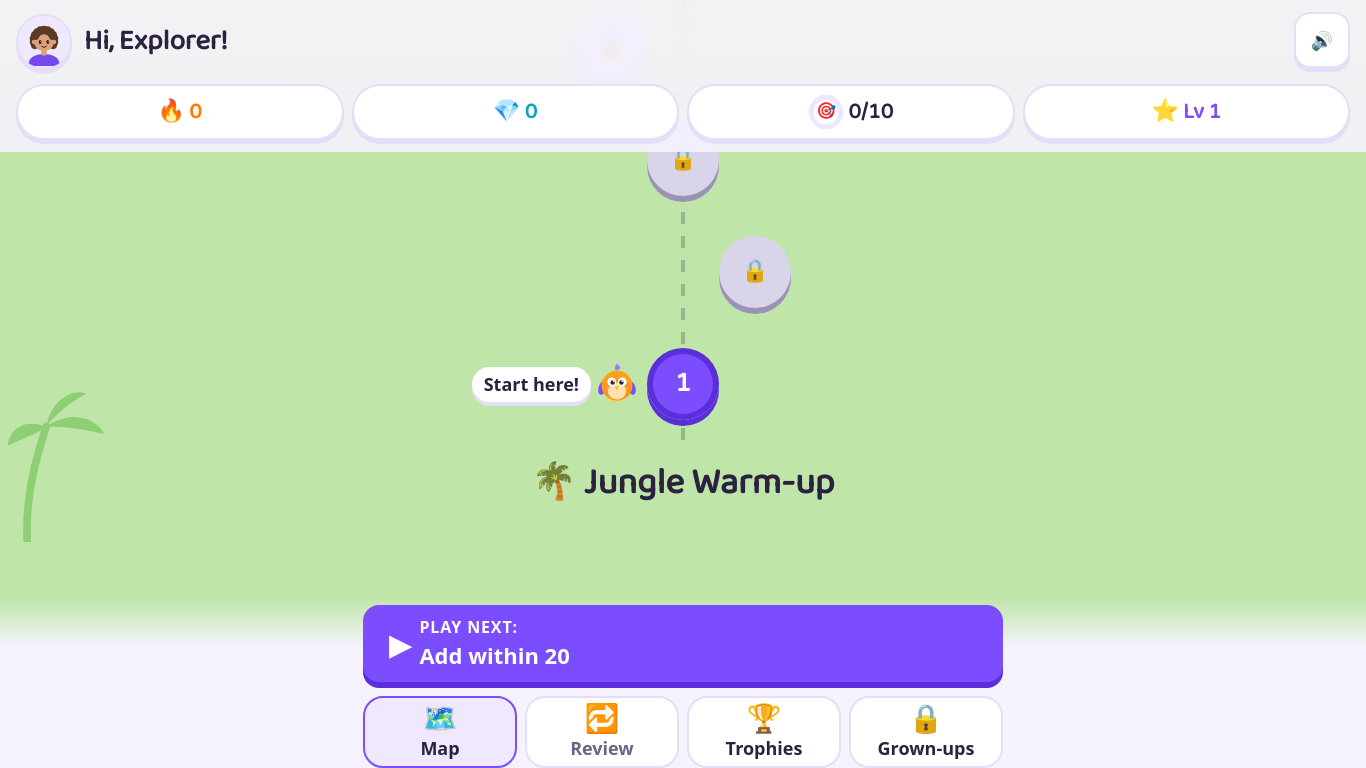
Test case: mission sheet + tap-to-hear (AC6, AC7) › a locked node says which mission comes first and has no Play
(page scrolled)
Click the button with test id "node-sub.within20" at (755, 272), box [719,236,791,308]
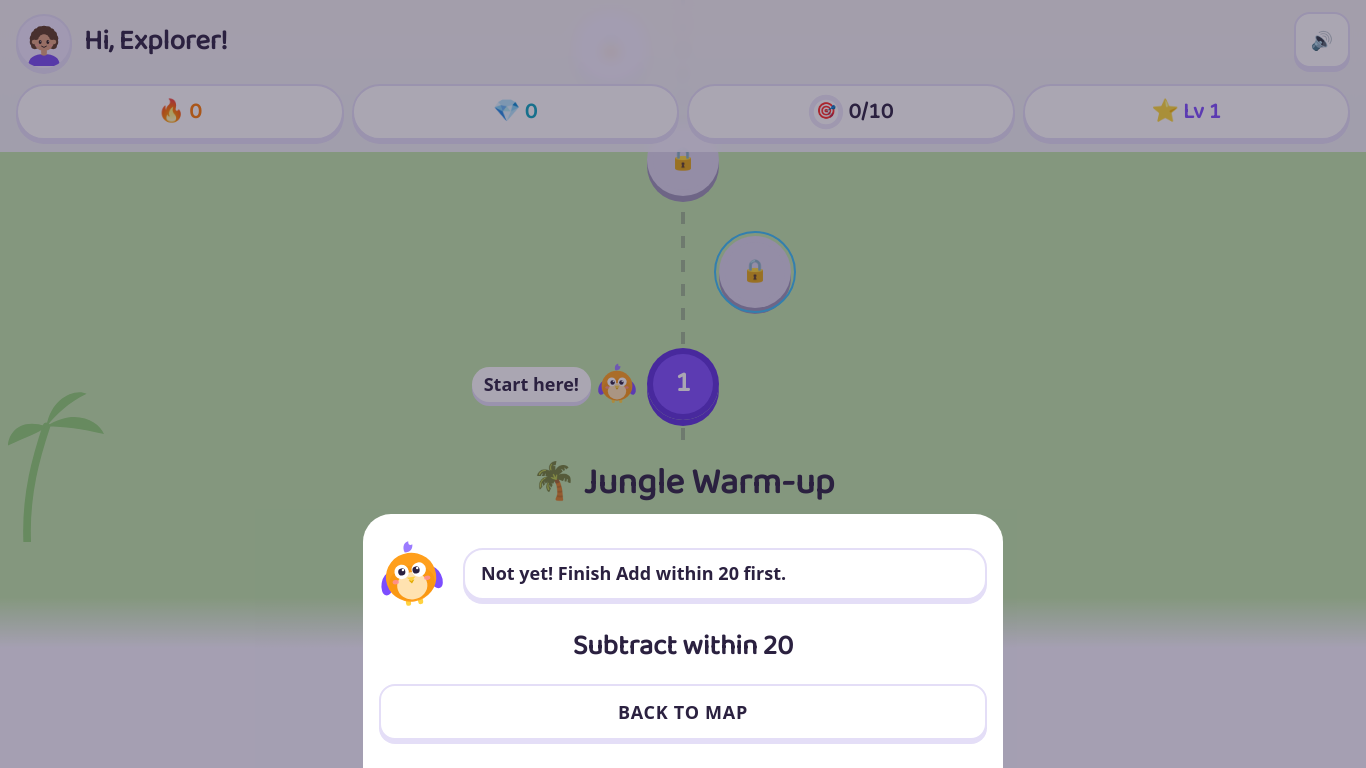
Expected: the dialog "Subtract within 20" shows "Not yet! Finish Add within 20 first.", [481,561,786,585]
Click the button "Back to map" at (683, 712), box [379,684,987,740]
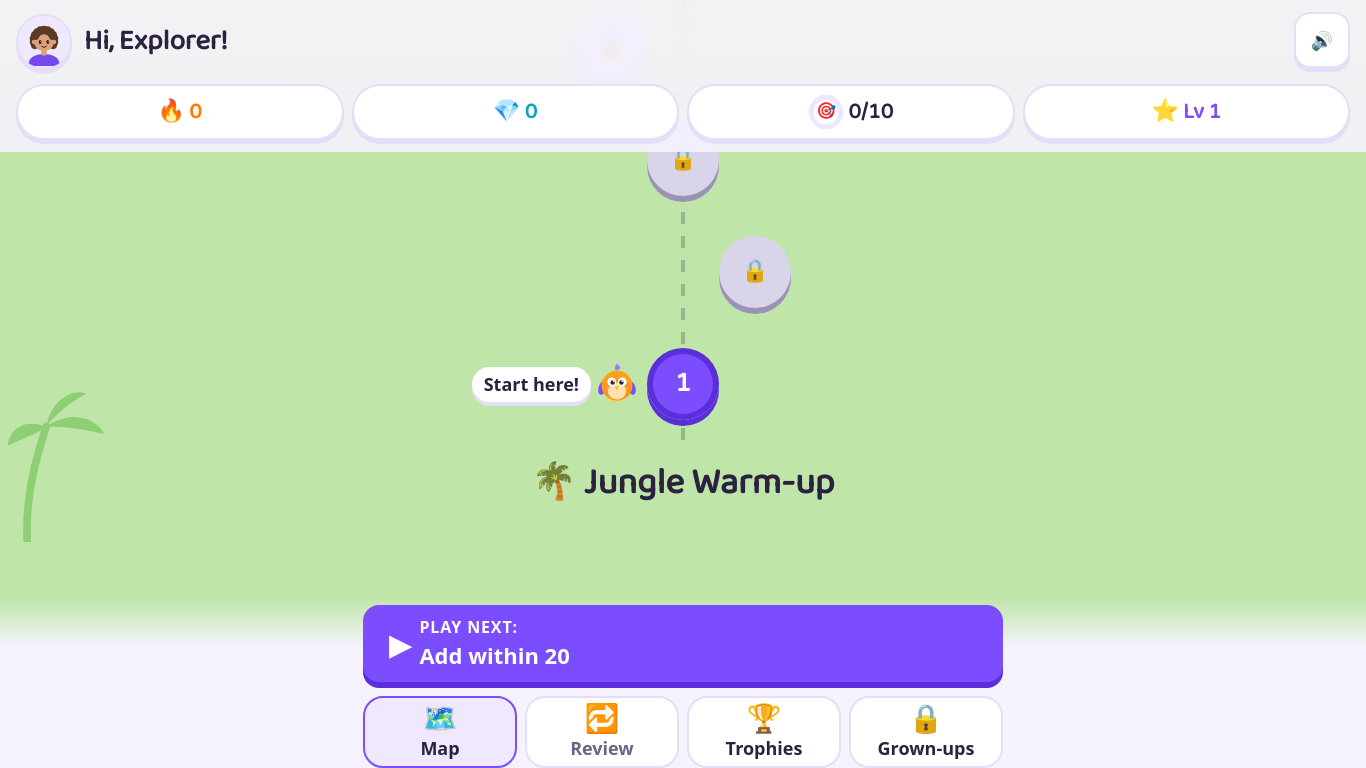
Expected: the dialog is gone
